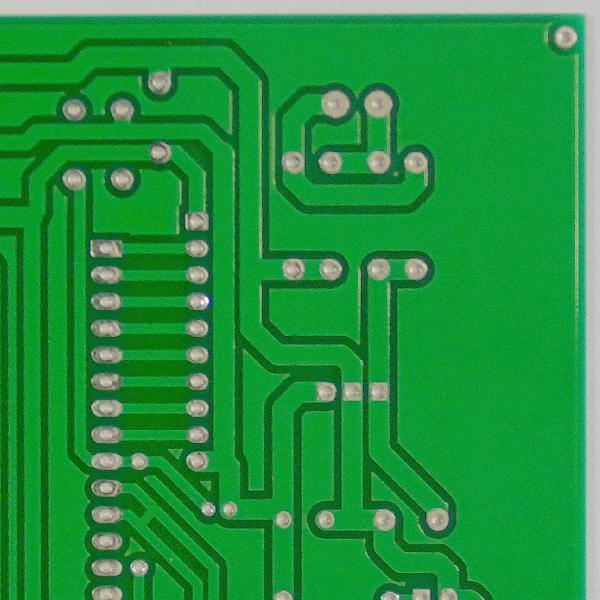short: (132, 500, 164, 536)
